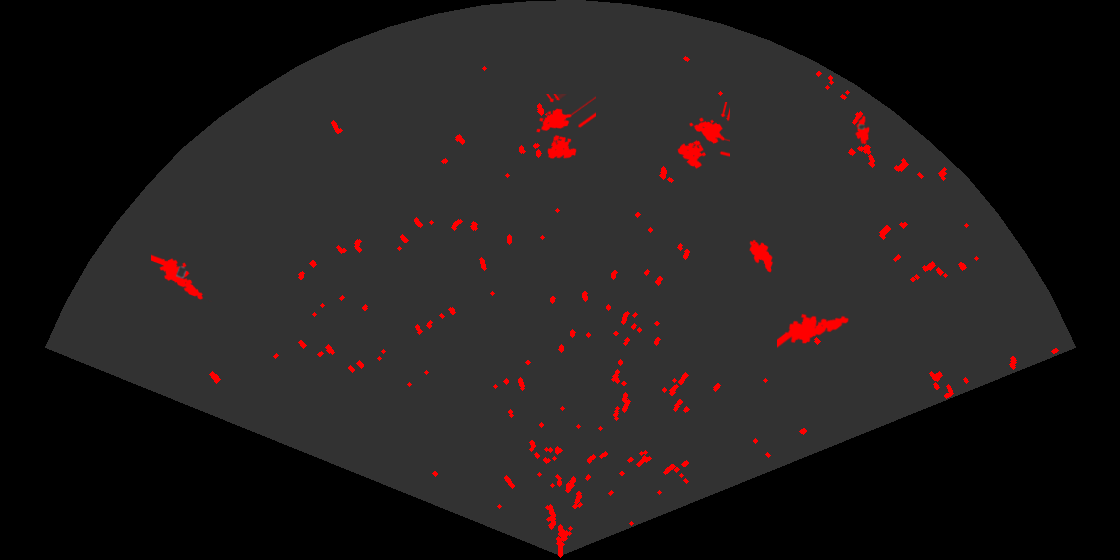AUV: (748, 238, 774, 274), (853, 114, 871, 146)
cage: (535, 94, 596, 161), (676, 102, 730, 171)
frogman: (151, 253, 213, 302), (777, 312, 850, 350)
